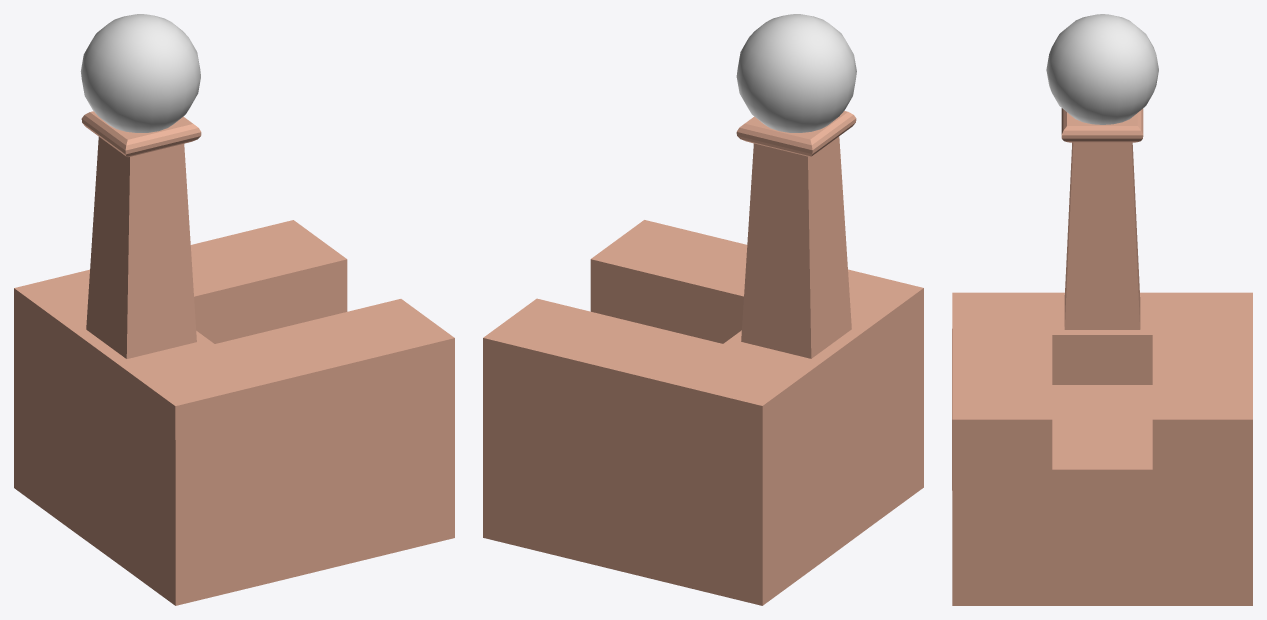
The model's file is EndPowerBlock.fbx.
The picture shows the model from 3 angles, left to right: view 1: azimuth 30°, elevation 25°; view 2: azimuth 150°, elevation 25°; view 3: azimuth 270°, elevation 25°; orthographic projection. The views are drawn at different scales.
Visible parts, largest first — view 1: Cube.001, Cube.010, Sphere.004; view 2: Cube.001, Cube.010, Sphere.004; view 3: Cube.001, Cube.010, Sphere.004.
Part boxes in pixels (<box>): Cube.001: <box>14,220,454,605</box>; Cube.010: <box>81,111,201,358</box>; Sphere.004: <box>80,14,200,132</box>; Cube.001: <box>483,220,923,605</box>; Cube.010: <box>736,111,856,358</box>; Sphere.004: <box>736,14,856,132</box>; Cube.001: <box>952,292,1252,605</box>; Cube.010: <box>1061,108,1143,329</box>; Sphere.004: <box>1046,14,1158,124</box>.
Bounding box in the file's own units: 409 × 706 × 400.
